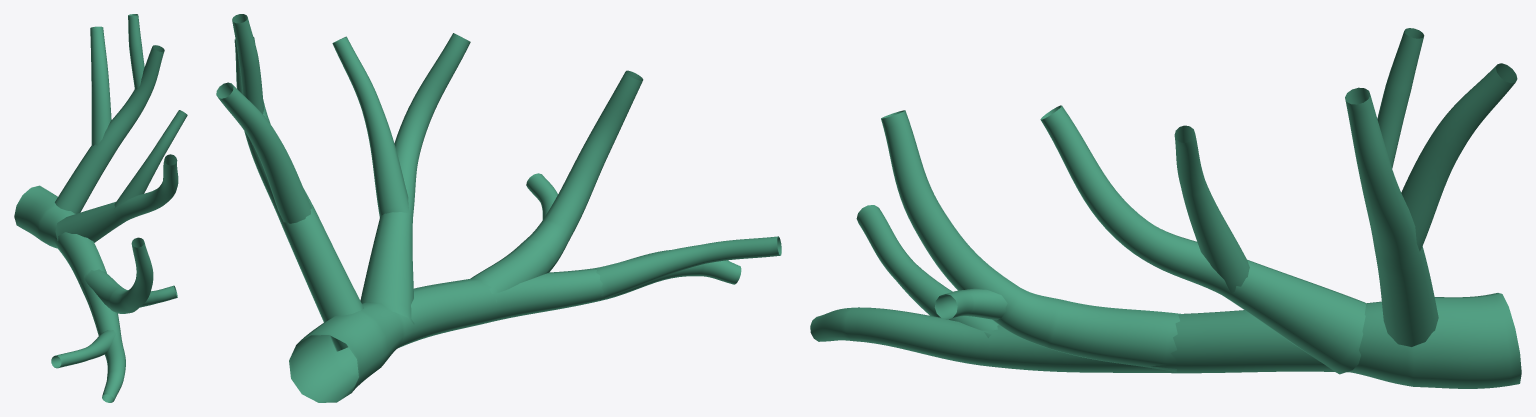
3 renders of one model, left to right at view 1: azimuth 30°, elevation 25°; view 2: azimuth 150°, elevation 25°; view 3: azimuth 270°, elevation 25°, orthographic. The views are drawn at different scales.
Parts seen in each view (by area): view 1: 左肺尖后段支气管（第1＋2段）; view 2: 左肺尖后段支气管（第1＋2段）; view 3: 左肺尖后段支气管（第1＋2段）.
Part boxes in pixels (left/top/right/bottom): 左肺尖后段支气管（第1＋2段）: left=14, top=14, right=187, bottom=402; 左肺尖后段支气管（第1＋2段）: left=216, top=14, right=781, bottom=402; 左肺尖后段支气管（第1＋2段）: left=810, top=28, right=1521, bottom=388.
Size of the model in its own units: 0.0912 by 0.0898 by 0.121.
